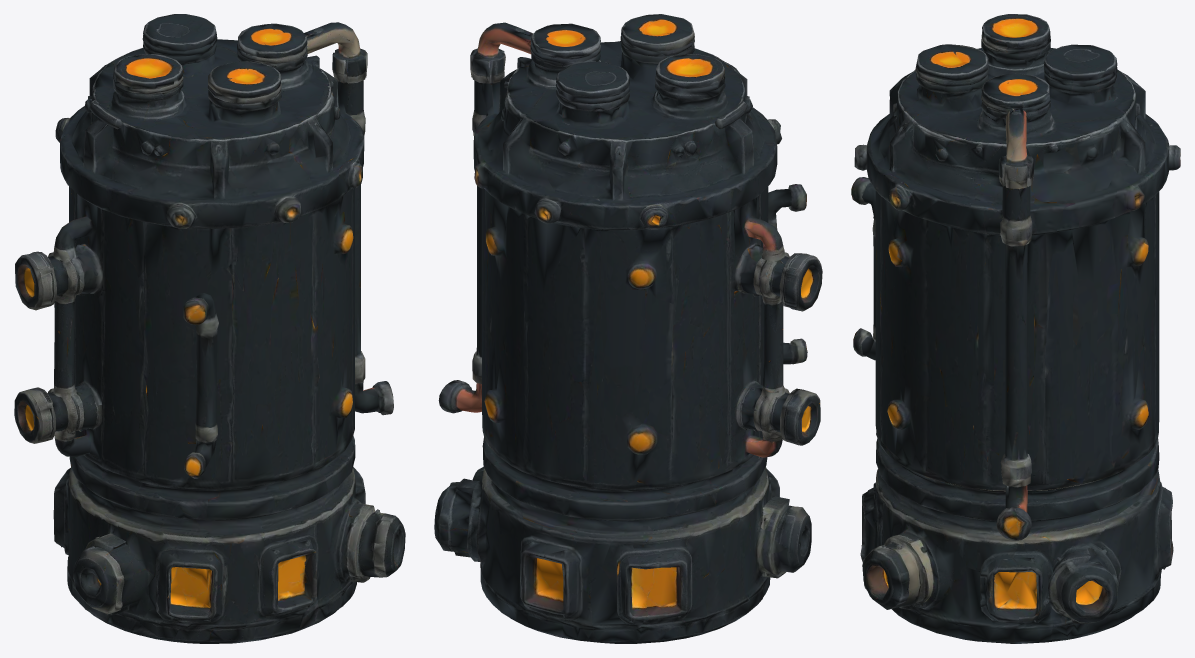
Rendered from reactor.glb.
The picture shows the model from 3 angles, left to right: view 1: azimuth 30°, elevation 25°; view 2: azimuth 150°, elevation 25°; view 3: azimuth 270°, elevation 25°; orthographic projection.
Bounding box in the file's own units: 1.36 × 1.9 × 1.08.
Materials: 1 (1 with a texture image).
